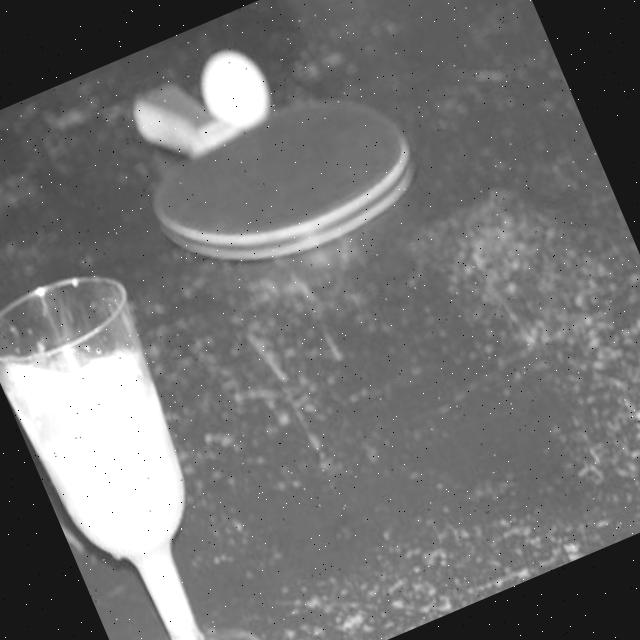ping-pong-ball: (185, 35, 282, 143)
